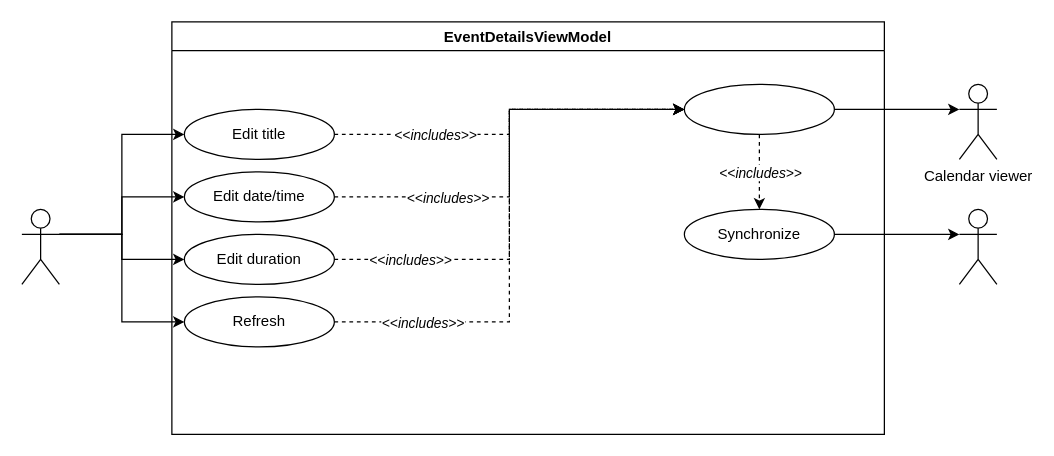
Image size: 1054x456. Some labels were removed from this diagram. Here are the shapes that lost their labels. From the top down, the box of each, then its label:
(683, 83, 834, 134): Modify event on calendar
(21, 208, 59, 284): User
(958, 208, 997, 284): Server
